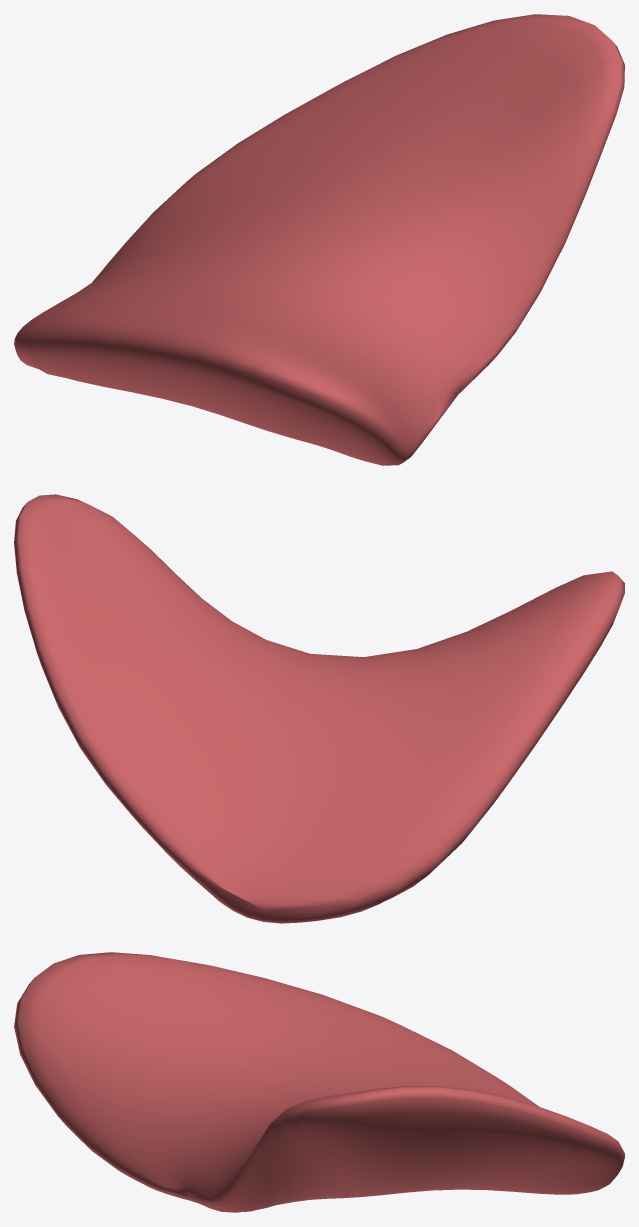
3 views of the same model, one above another, from view 1: azimuth 30°, elevation 25°; view 2: azimuth 150°, elevation 25°; view 3: azimuth 270°, elevation 25° (orthographic). The views are drawn at different scales.
Parts seen in each view (by area): view 1: 右侧股二头肌上囊; view 2: 右侧股二头肌上囊; view 3: 右侧股二头肌上囊.
Part boxes in pixels (x1,y1,x2,y2): 右侧股二头肌上囊: (14,14,624,465); 右侧股二头肌上囊: (14,494,624,923); 右侧股二头肌上囊: (14,952,624,1212).
Size of the model in its own units: 0.0294 by 0.0153 by 0.0317.
